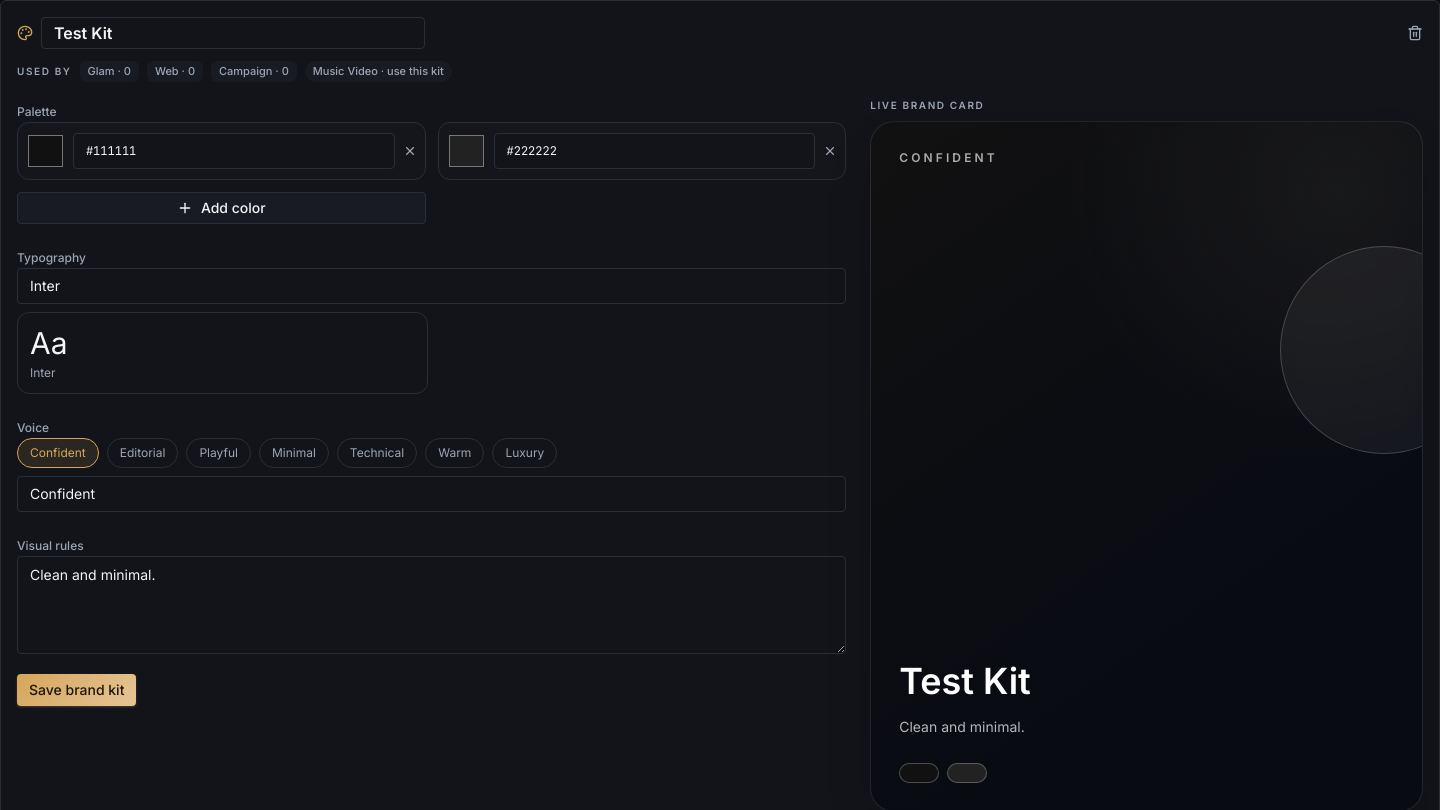
Test: BrandKitCard active toggle › deactivates on a second click
Click the button "Music Video · use this kit" at (378, 71), box [305,61,452,82]
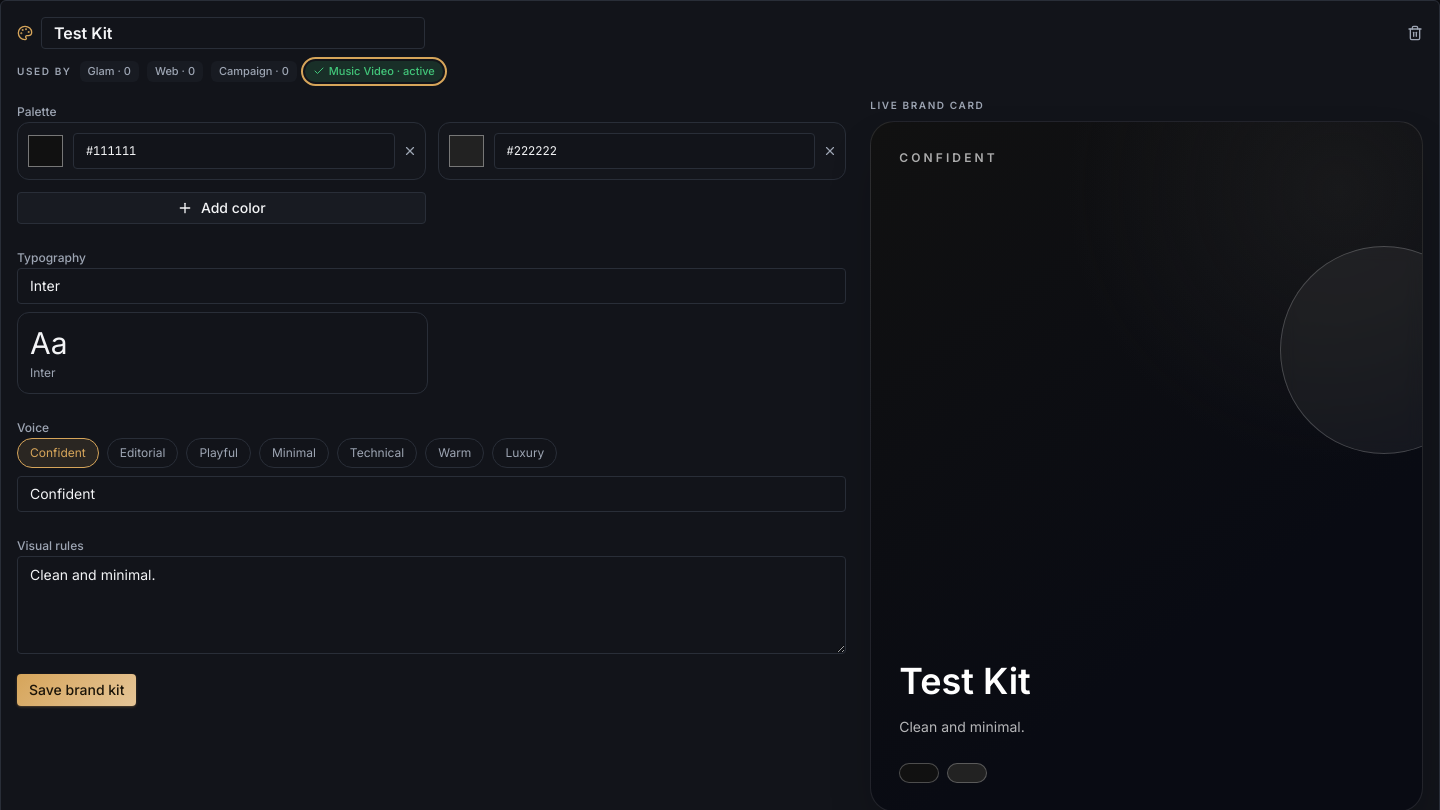
Click the button "Music Video · active" at (374, 71), box [305,61,443,82]
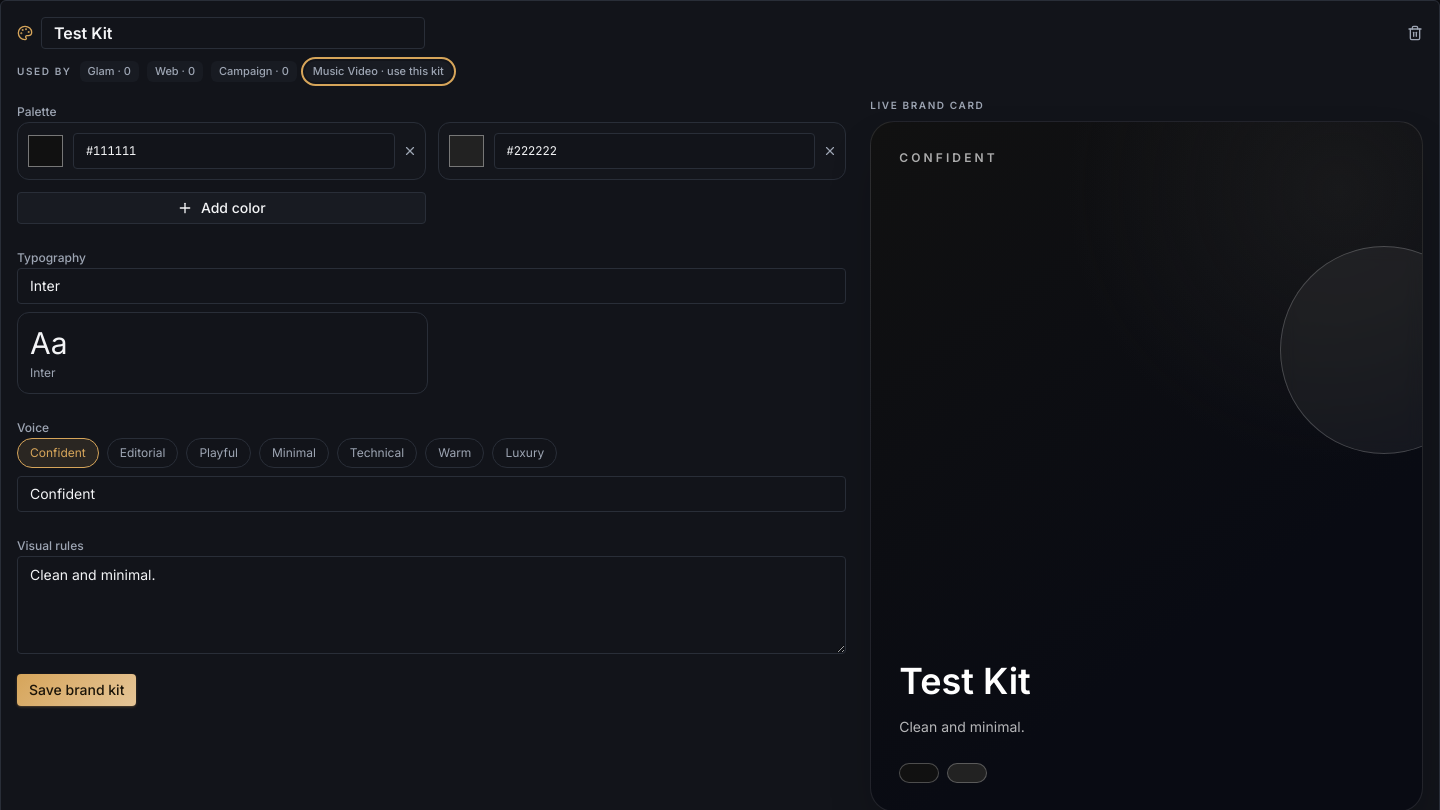
Result: the button "Music Video · use this kit" is shown at [305,61,452,82]
